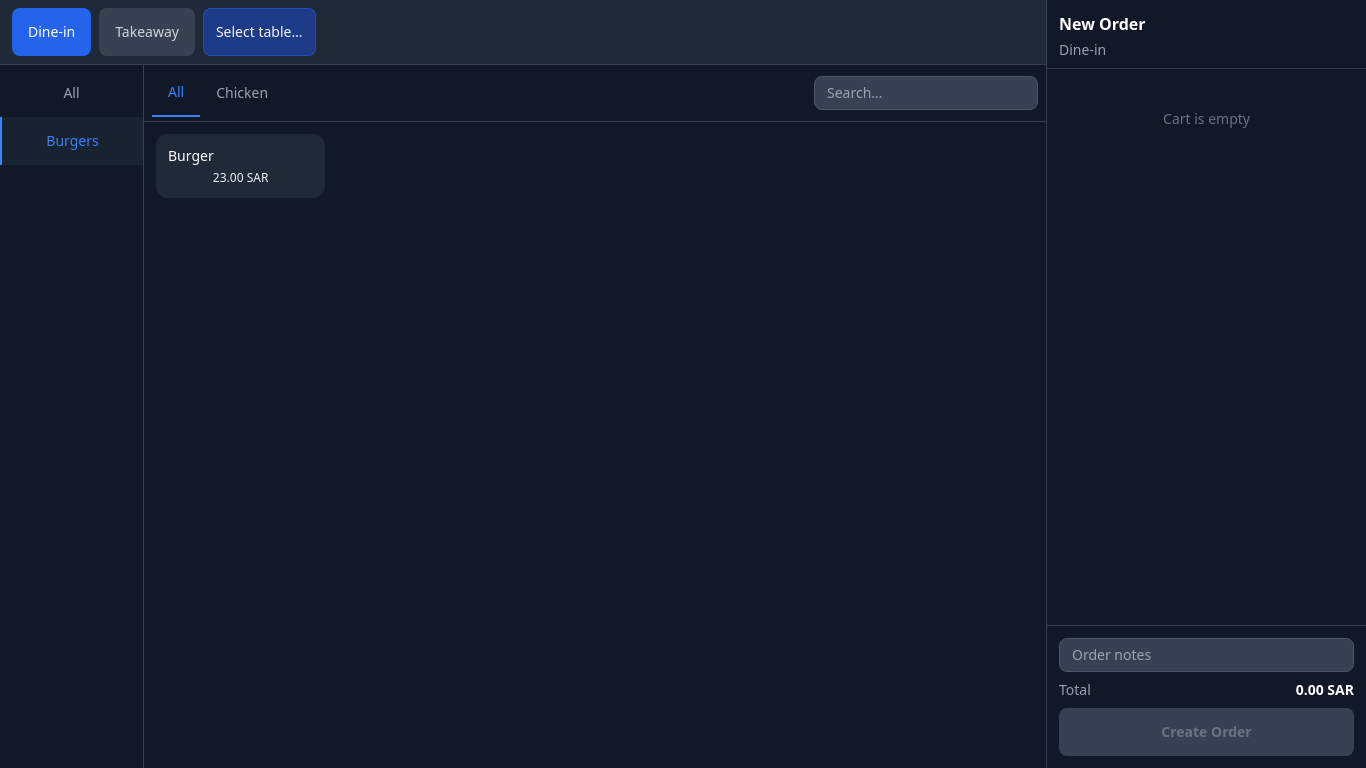
Test: OrderPage — type/table switch on open orders (#109) › pre-order: table picker selects locally without API
Expected: the text "Burger" is shown, 168,146 -> 214,165
Click the button "Select table…": (259, 32) 203,8 -> 316,56
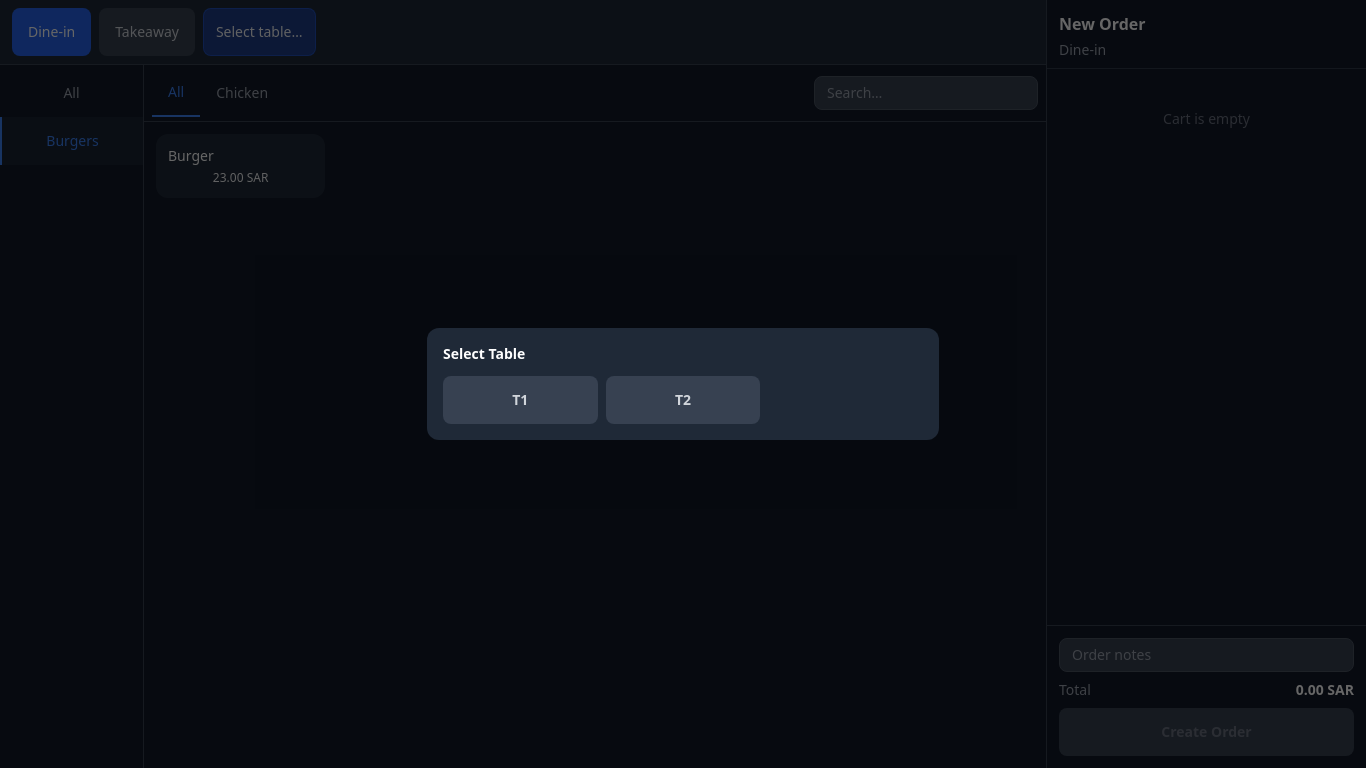
Expected: the heading "Select Table" is shown, 443,344 -> 525,363
Click the button "T2": (683, 400) 606,376 -> 760,424
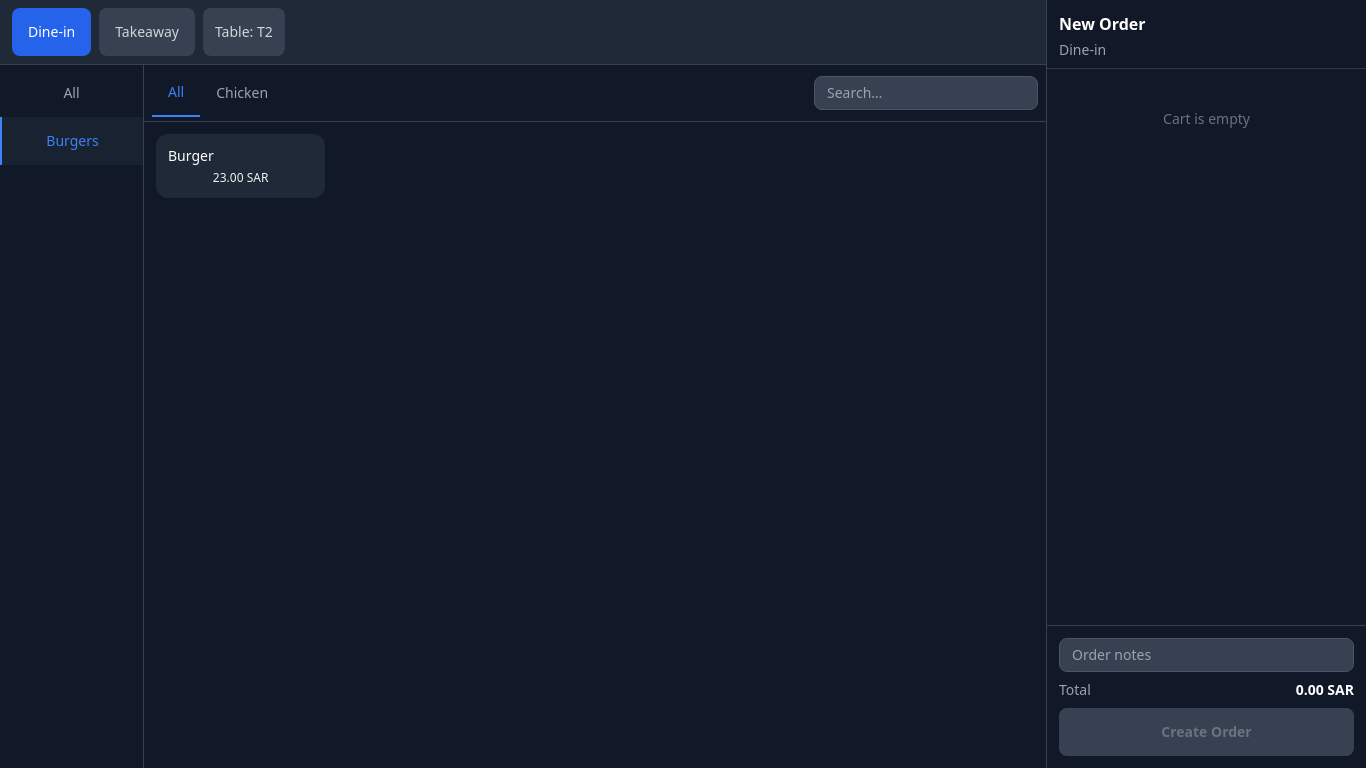
Expected: the button "Table: T2" is shown, 203,8 -> 285,56
